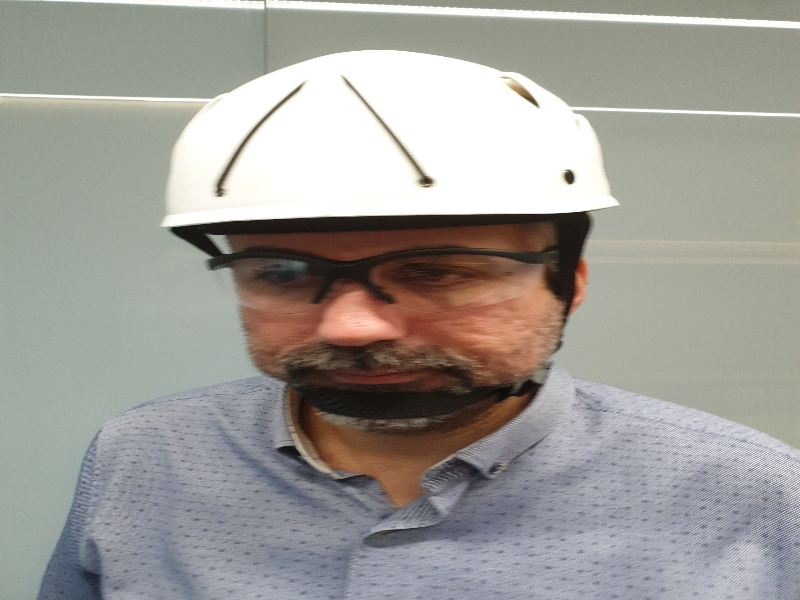Baret: (155, 49, 621, 210)
Gozluk: (203, 245, 565, 304)
